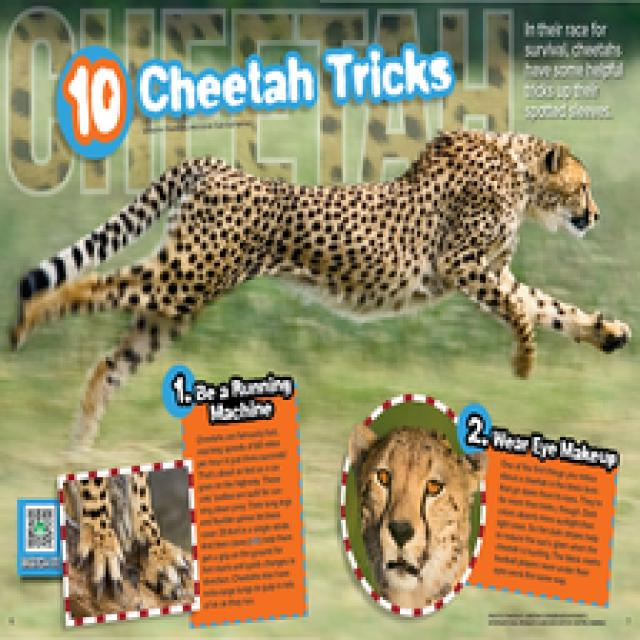cheetah: (57, 120, 640, 371), (334, 398, 489, 604), (68, 474, 202, 605)
